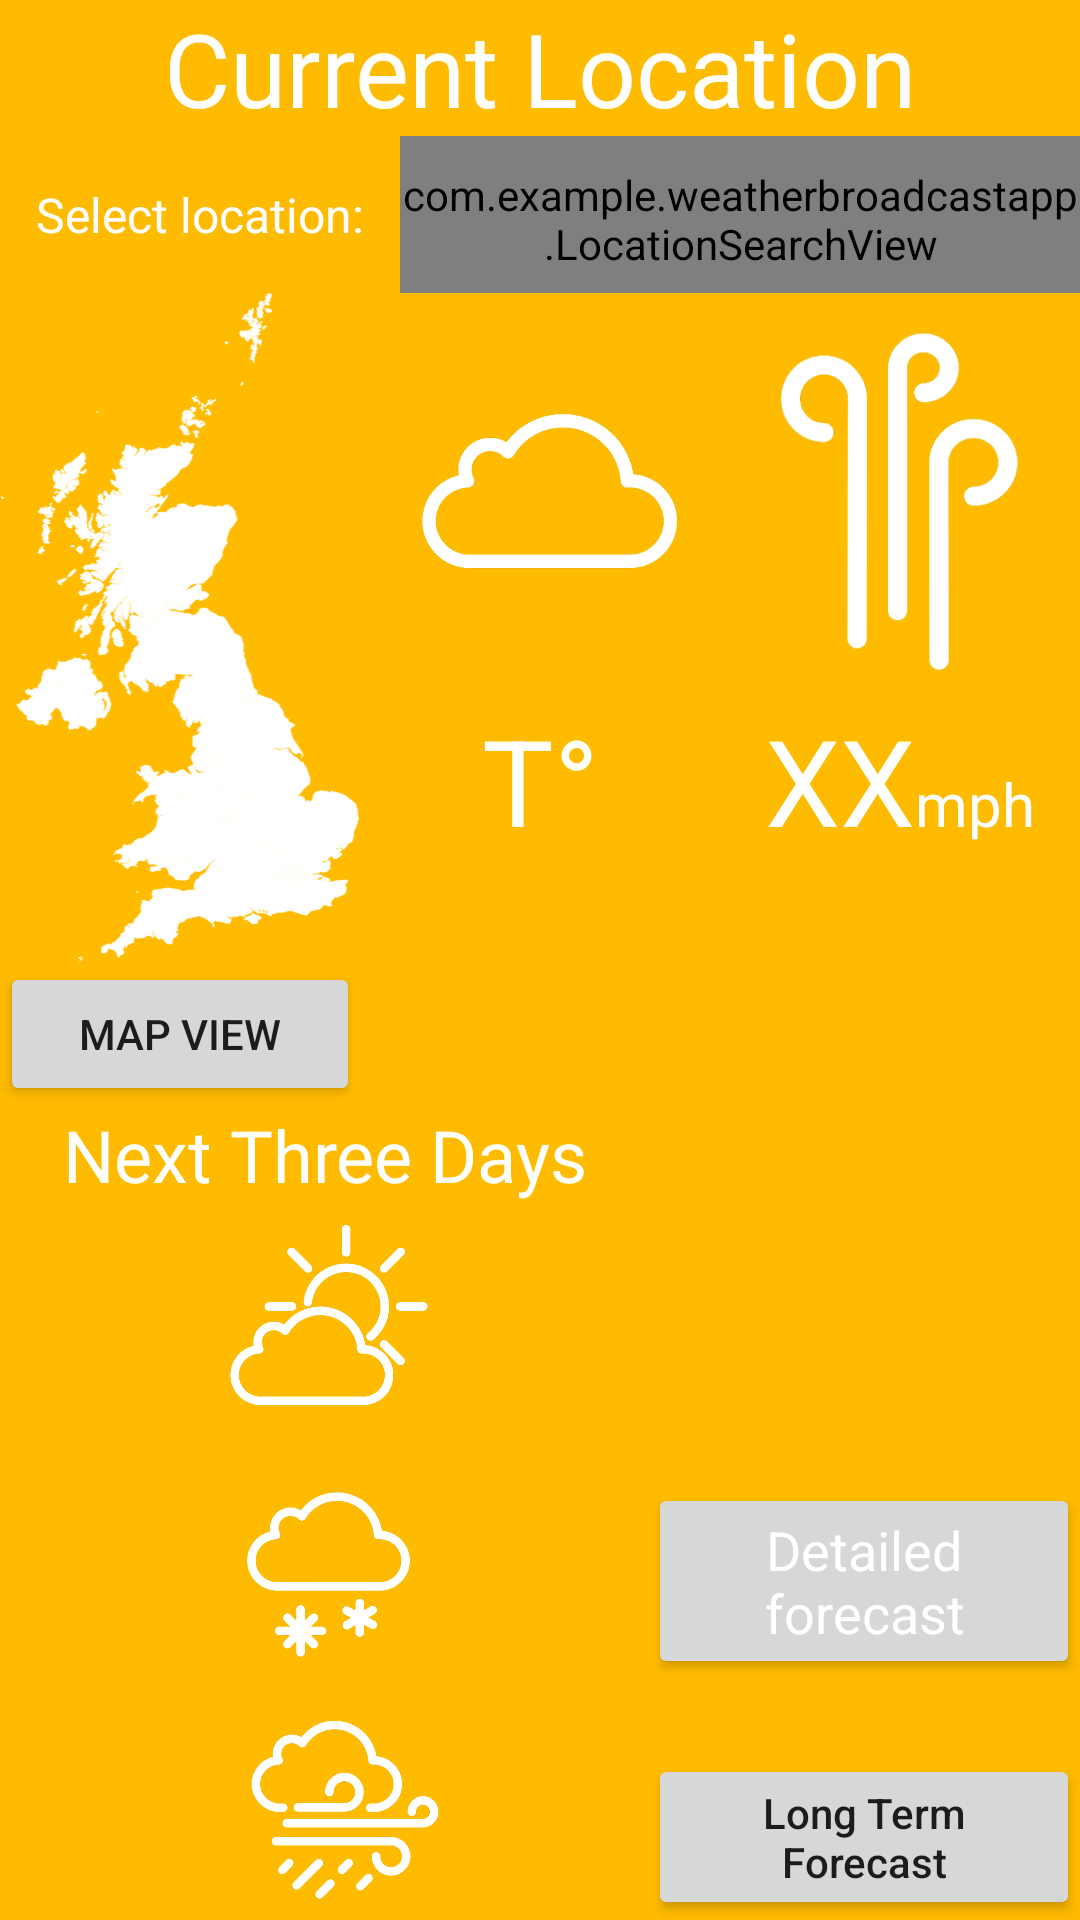

Point at icon controls on the screen. Image size 1080w x 1920h, points as [x,y].
cloud: [549,491]
cloud sun: [329,1315]
snow: [328,1574]
wind rain cloud: [345,1810]
